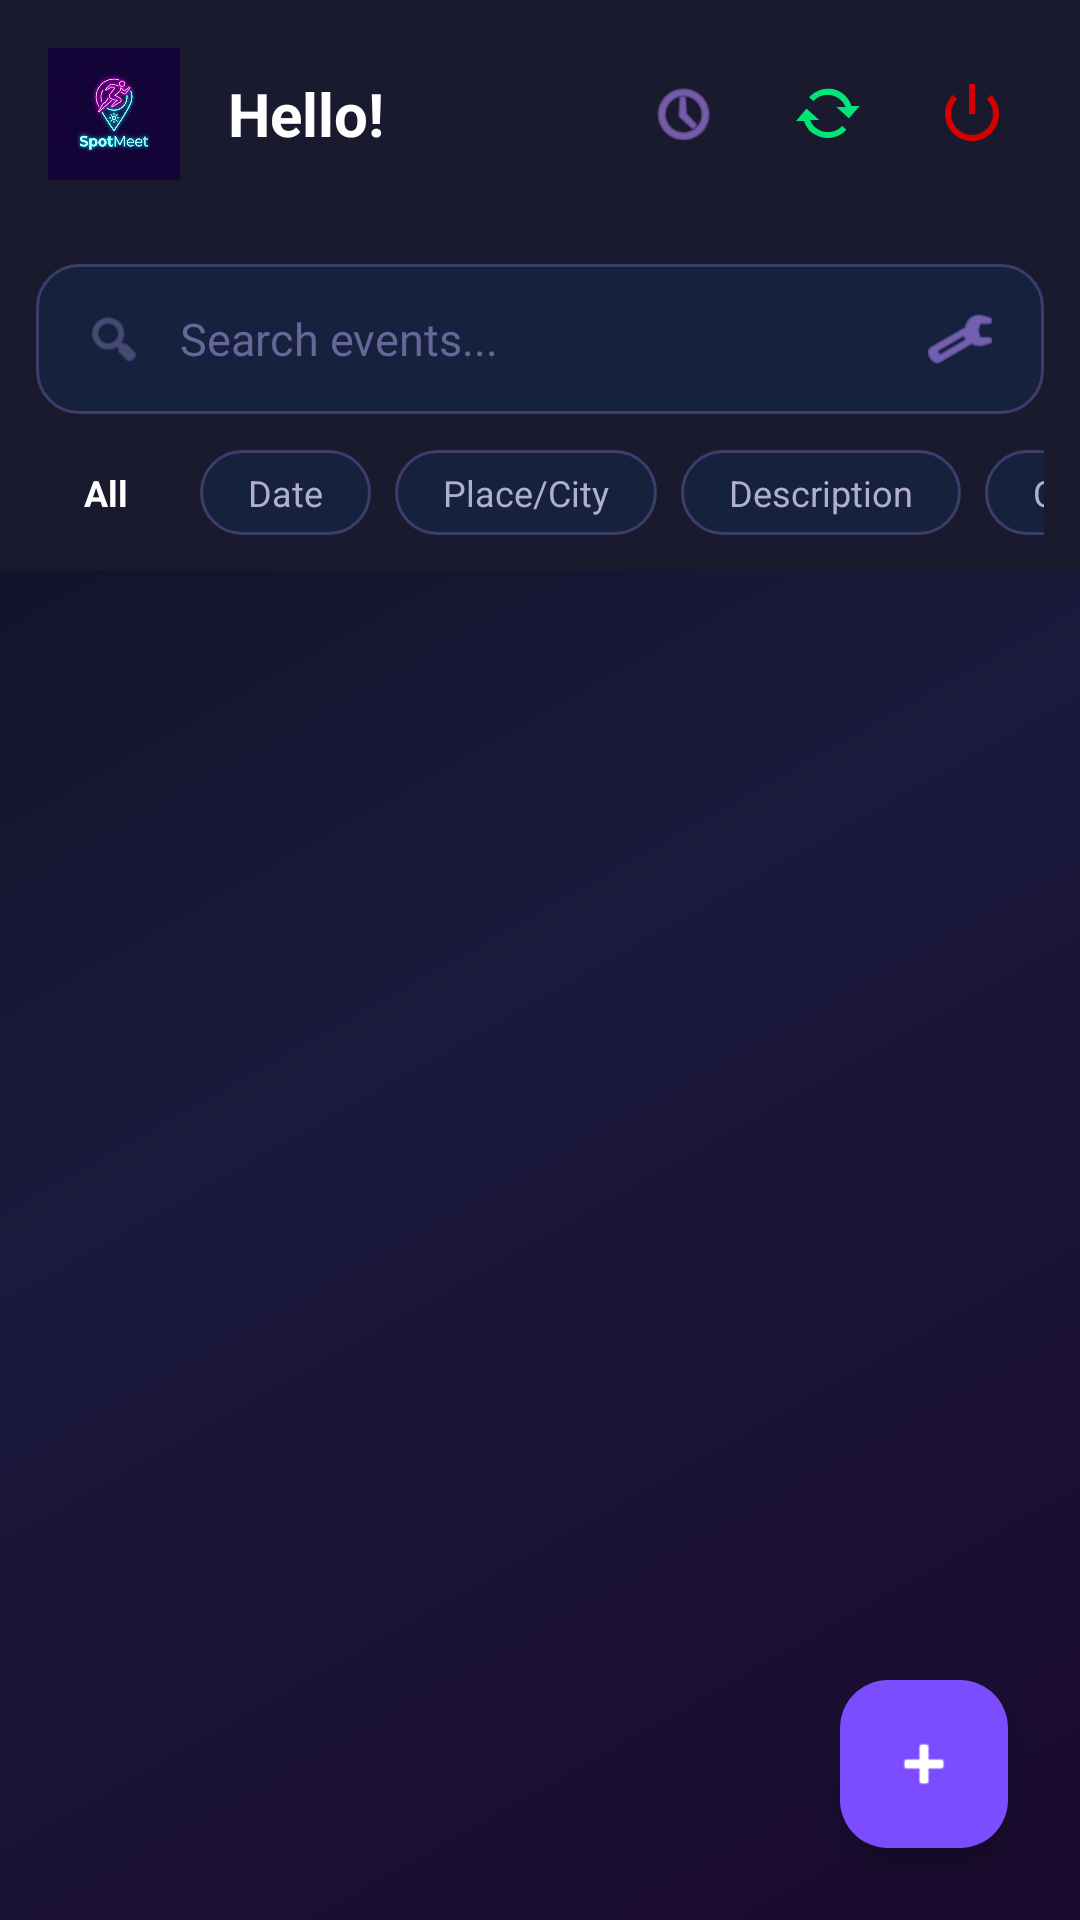

Named icons in this screenshot (1080 × 1920) and their centers, (x,y):
Add Event: (924,1764)
lock power off: (972,112)
manage: (960,339)
recent history: (684,114)
sync: (828,113)
